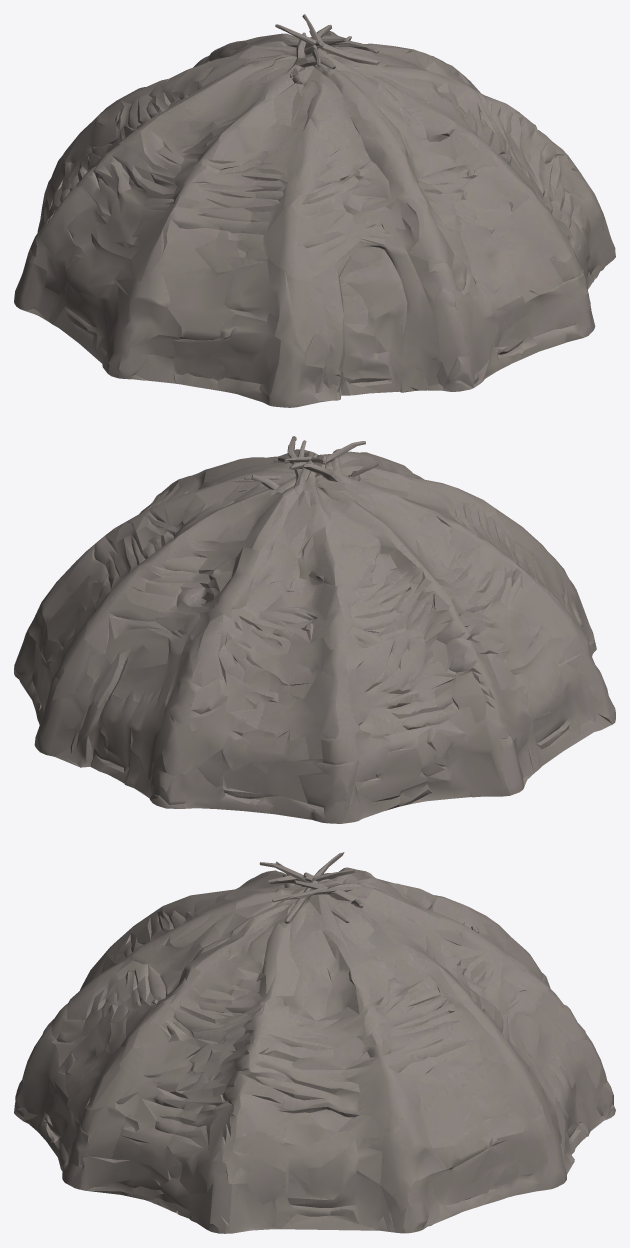
Rendered from tent.glb.
3 views of the same model, one above another, from view 1: azimuth 30°, elevation 25°; view 2: azimuth 150°, elevation 25°; view 3: azimuth 270°, elevation 25° (orthographic).
Visible parts, largest first — view 1: tent-centred; view 2: tent-centred; view 3: tent-centred.
Boxes of the visible parts, x1,y1,x2,y2 form: tent-centred: (14,14,615,407); tent-centred: (14,436,615,823); tent-centred: (14,852,615,1233).
Bounding box in the file's own units: 5.28 × 2.51 × 5.5.
Materials: 1 (1 with a texture image).
